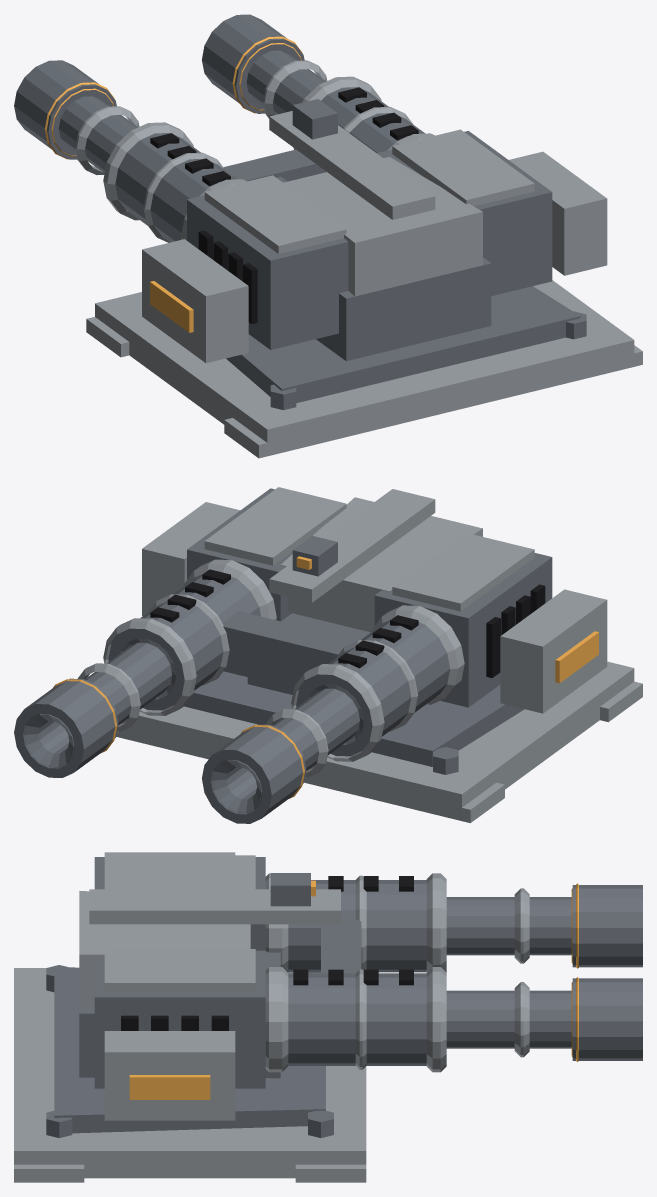
File: item_gun_standard.glb
The picture shows the model from 3 angles, top to bottom: view 1: azimuth 30°, elevation 25°; view 2: azimuth 150°, elevation 25°; view 3: azimuth 270°, elevation 25°; orthographic projection. The views are drawn at different scales.
Visible parts, largest first — view 1: item_gun_standard_Plate, item_gun_standard_Gunmetal, item_gun_standard_Bore, item_gun_standard_Accent; view 2: item_gun_standard_Plate, item_gun_standard_Gunmetal, item_gun_standard_Bore, item_gun_standard_Accent; view 3: item_gun_standard_Plate, item_gun_standard_Gunmetal, item_gun_standard_Accent, item_gun_standard_Bore.
Boxes of the visible parts, box(x1,y1,x2,y2) form: item_gun_standard_Plate: box(75, 60, 642, 458); item_gun_standard_Gunmetal: box(14, 14, 586, 410); item_gun_standard_Bore: box(150, 87, 418, 323); item_gun_standard_Accent: box(44, 36, 302, 332); item_gun_standard_Plate: box(77, 487, 642, 823); item_gun_standard_Gunmetal: box(14, 488, 552, 823); item_gun_standard_Bore: box(150, 569, 545, 677); item_gun_standard_Accent: box(53, 556, 598, 798); item_gun_standard_Plate: box(14, 852, 529, 1182); item_gun_standard_Gunmetal: box(46, 857, 642, 1137); item_gun_standard_Accent: box(129, 880, 578, 1099); item_gun_standard_Bore: box(121, 876, 413, 1030).
Size of the model in its own units: 0.96 by 0.455 by 1.25.
